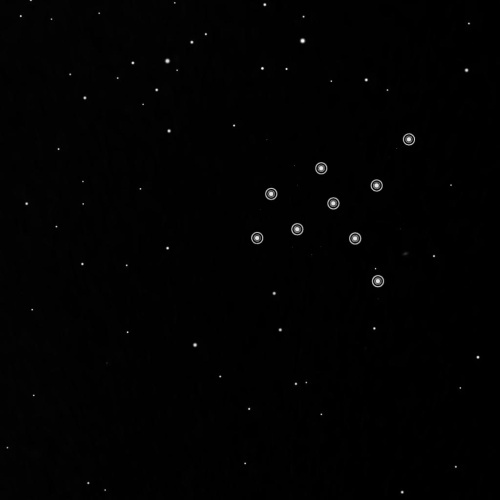cygnus: (246, 127, 418, 293)
